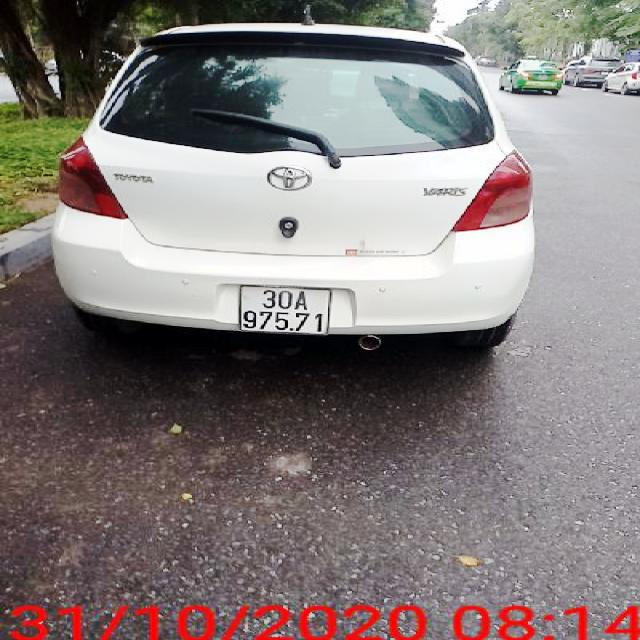license_plate: (240, 285, 333, 333)
